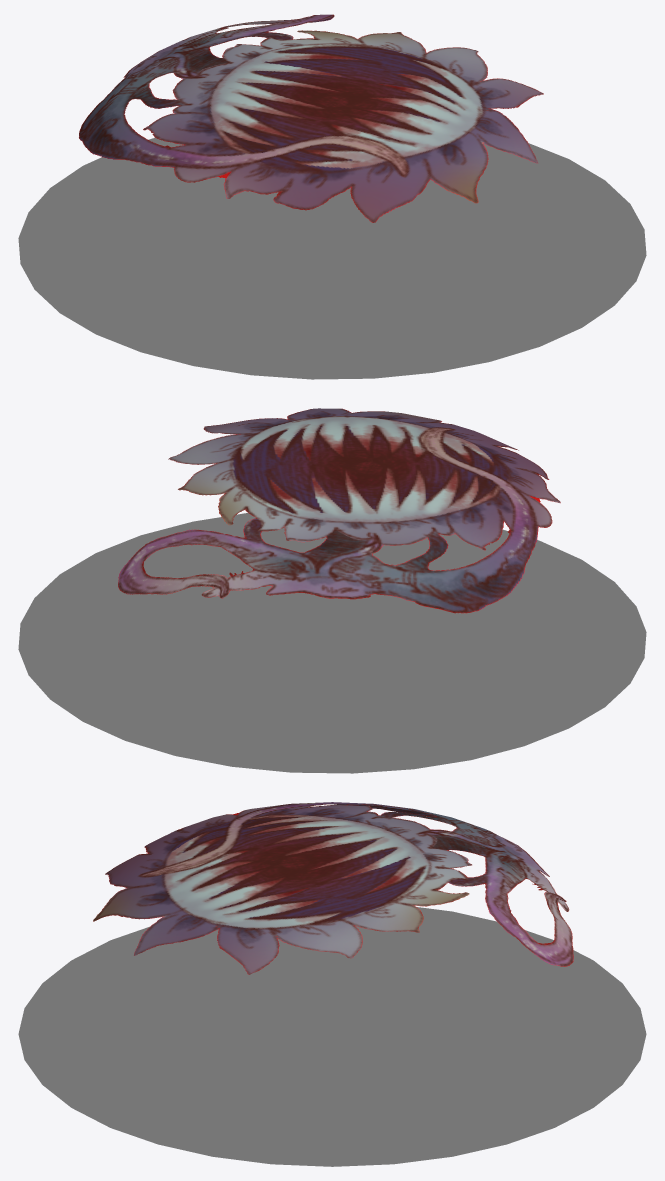
3 renders of one model, top to bottom at view 1: azimuth 30°, elevation 25°; view 2: azimuth 150°, elevation 25°; view 3: azimuth 270°, elevation 25°, orthographic.
Parts seen in each view (by area): view 1: 棋子-down, 旗子-up; view 2: 棋子-down, 旗子-up; view 3: 棋子-down, 旗子-up.
Part boxes in pixels (x1=…): 棋子-down: x1=18, y1=137, x2=646, y2=379; 旗子-up: x1=79, y1=14, x2=543, y2=222; 棋子-down: x1=18, y1=513, x2=646, y2=773; 旗子-up: x1=118, y1=408, x2=560, y2=613; 棋子-down: x1=18, y1=907, x2=646, y2=1166; 旗子-up: x1=93, y1=802, x2=573, y2=974.
Size of the model in its own units: 21.79 by 6.15 by 21.79.
2 materials, 1 textured.
